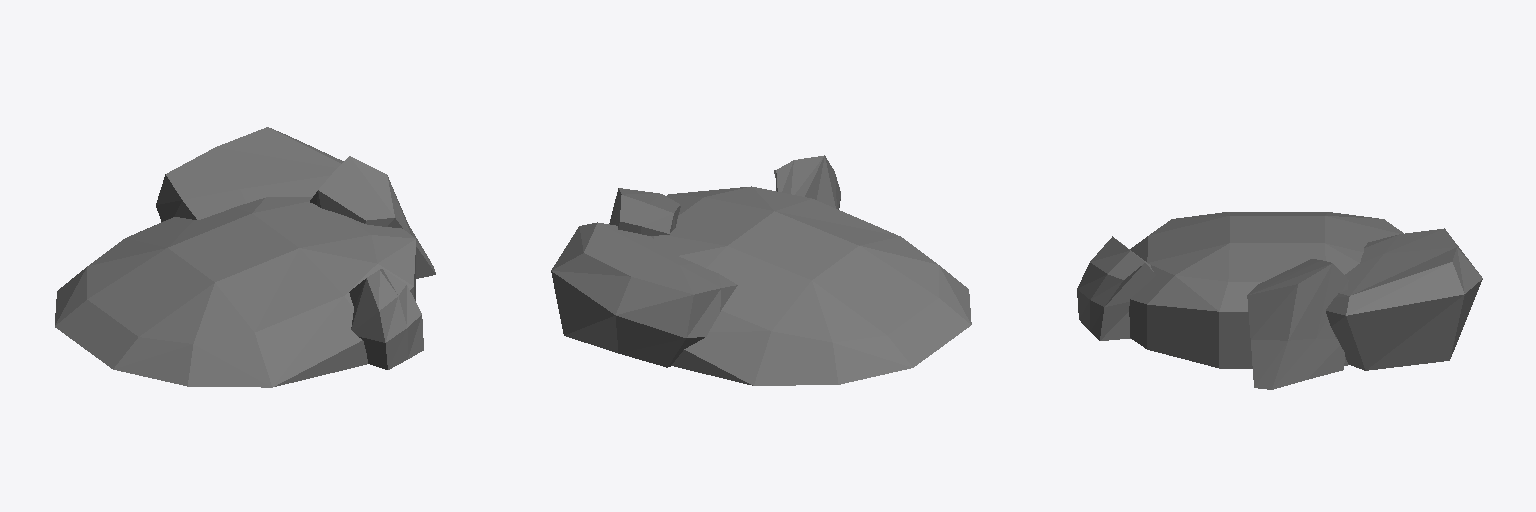
The model's file is sm_05x_hillCliff_2.OBJ.
3 views of the same model, side by side, from view 1: azimuth 30°, elevation 25°; view 2: azimuth 150°, elevation 25°; view 3: azimuth 270°, elevation 25° (orthographic).
Parts seen in each view (by area): view 1: sm05hillcliffe2; view 2: sm05hillcliffe2; view 3: sm05hillcliffe2.
Boxes of the visible parts, box(x1,y1,x2,y2) form: sm05hillcliffe2: box(55, 127, 435, 387); sm05hillcliffe2: box(551, 155, 971, 385); sm05hillcliffe2: box(1077, 212, 1482, 389).
Bounding box in the file's own units: 2.71 × 0.7673 × 2.74.